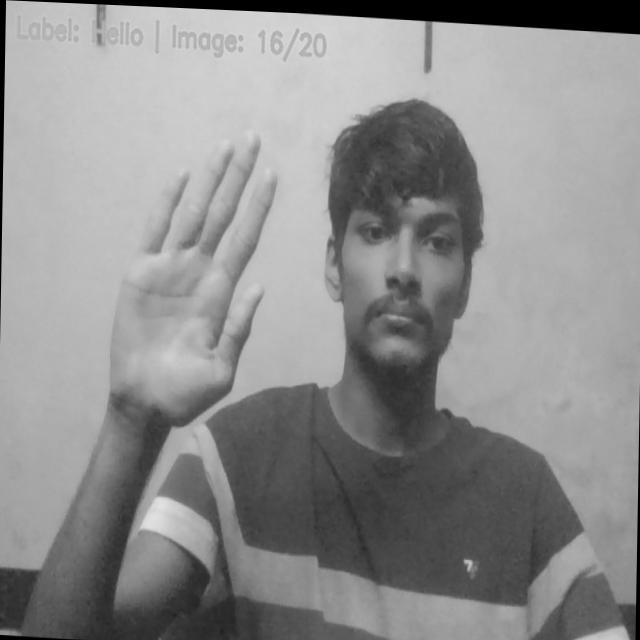I love you: (106, 118, 282, 443)
